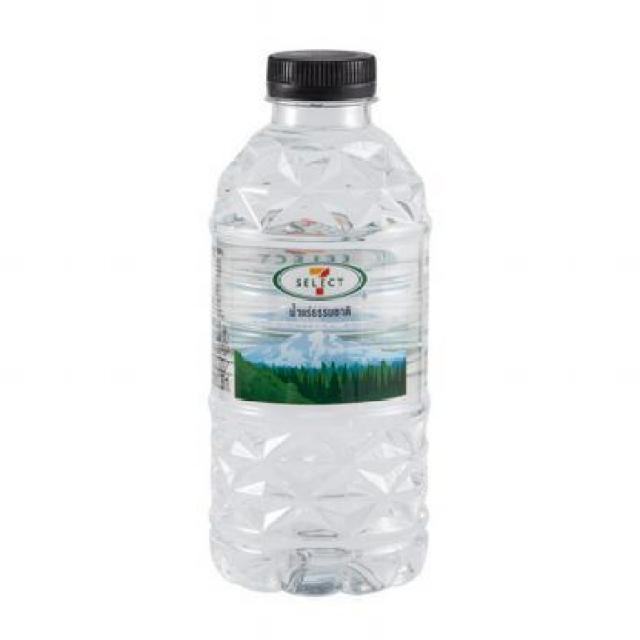bottle: (191, 20, 451, 606)
